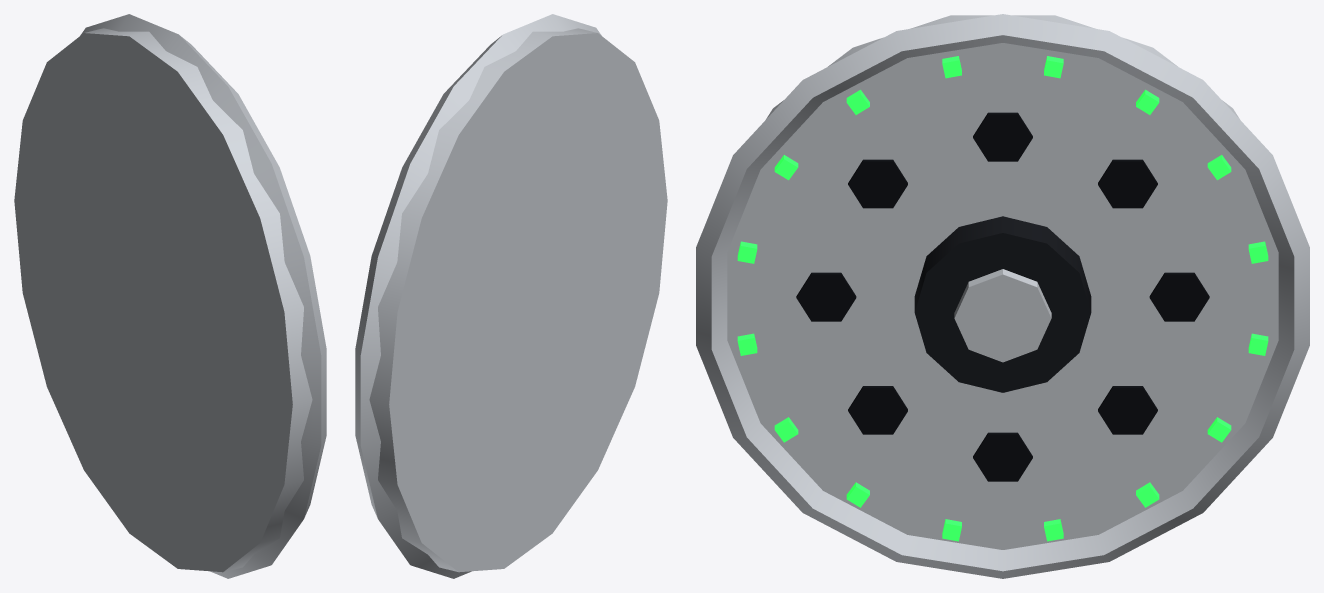
Rendered from hub_led_ring.glb.
The picture shows the model from 3 angles, left to right: view 1: azimuth 30°, elevation 25°; view 2: azimuth 150°, elevation 25°; view 3: azimuth 270°, elevation 25°; orthographic projection. The views are drawn at different scales.
Visible parts, largest first — view 1: hub_led_ring_chrome; view 2: hub_led_ring_chrome; view 3: hub_led_ring_chrome, hub_led_ring_deco_trim, hub_led_ring_deco_body, hub_led_ring_deco_led.
Part boxes in pixels (x1,y1,x2,y2): hub_led_ring_chrome: [14, 14, 326, 578]; hub_led_ring_chrome: [355, 14, 667, 578]; hub_led_ring_chrome: [696, 14, 1309, 578]; hub_led_ring_deco_trim: [796, 112, 1209, 481]; hub_led_ring_deco_body: [914, 216, 1091, 392]; hub_led_ring_deco_led: [737, 56, 1268, 541].
Size of the model in its own units: 0.0945 by 0.706 by 0.6953.
